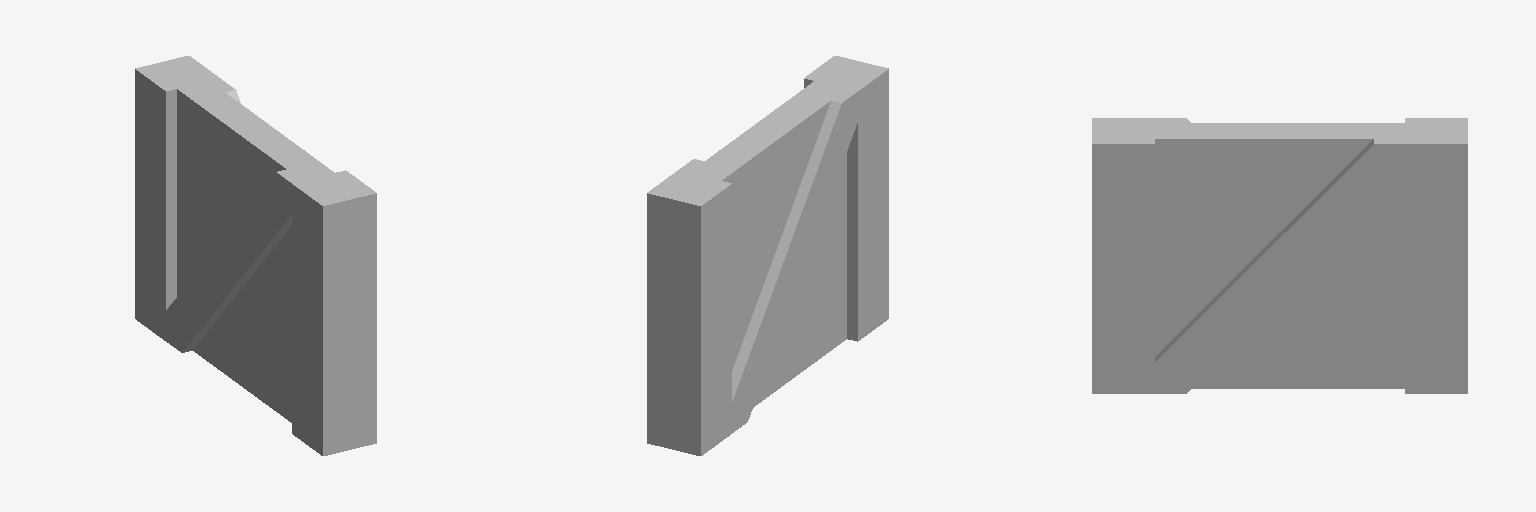
The model's file is Wall Cross 2Side.obj.
3 views of the same model, side by side, from view 1: azimuth 30°, elevation 25°; view 2: azimuth 150°, elevation 25°; view 3: azimuth 270°, elevation 25° (orthographic).
Parts seen in each view (by area): view 1: Wood_Wall_Cross_01; view 2: Wood_Wall_Cross_01; view 3: Wood_Wall_Cross_01.
Boxes of the visible parts, x1,y1,x2,y2 form: Wood_Wall_Cross_01: [135, 56, 376, 455]; Wood_Wall_Cross_01: [647, 56, 888, 455]; Wood_Wall_Cross_01: [1092, 118, 1467, 393].
Size of the model in its own units: 0.5 by 2.2 by 3.